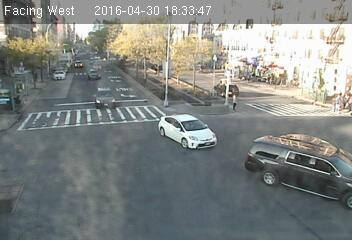neg: (69, 171, 103, 215), (103, 212, 123, 237)
pos: (226, 89, 244, 114)
